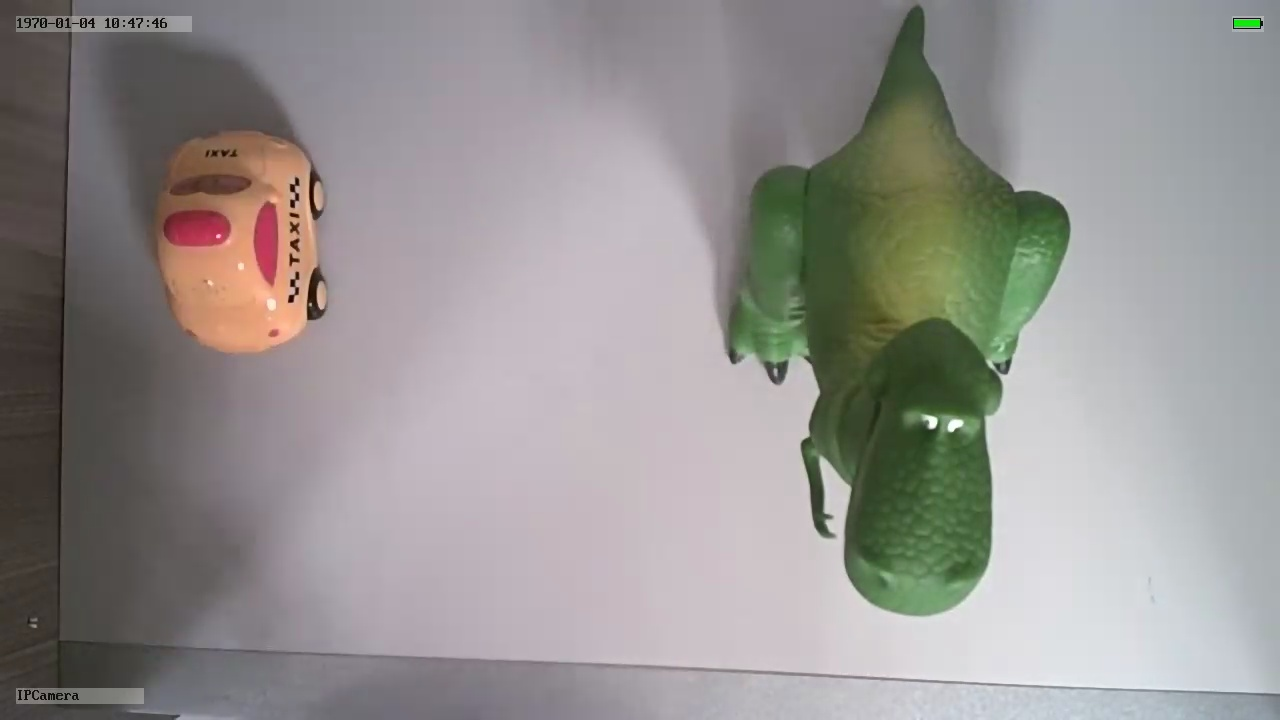car: (152, 120, 334, 358)
rex: (726, 112, 1076, 620)
